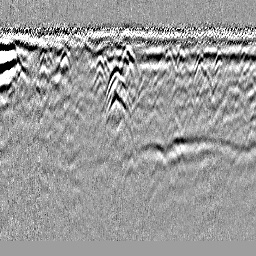cavity: (118, 43, 141, 78)
